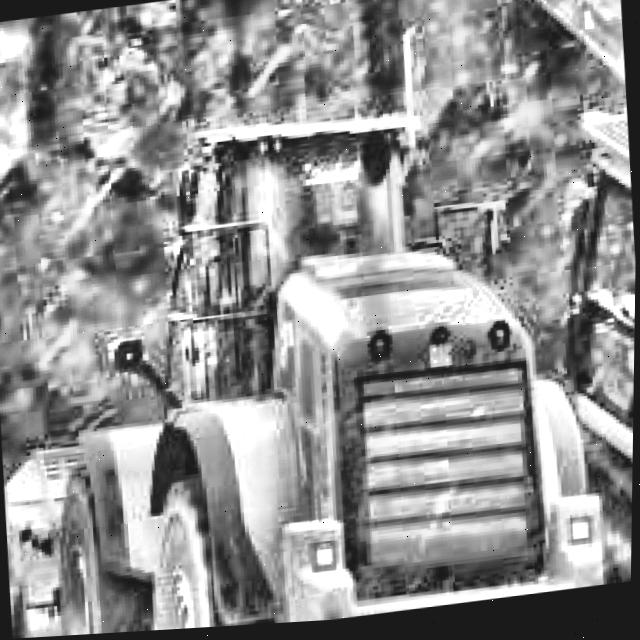buldozerpayloadergrader: (0, 70, 608, 640)
excavator: (155, 0, 640, 632)
